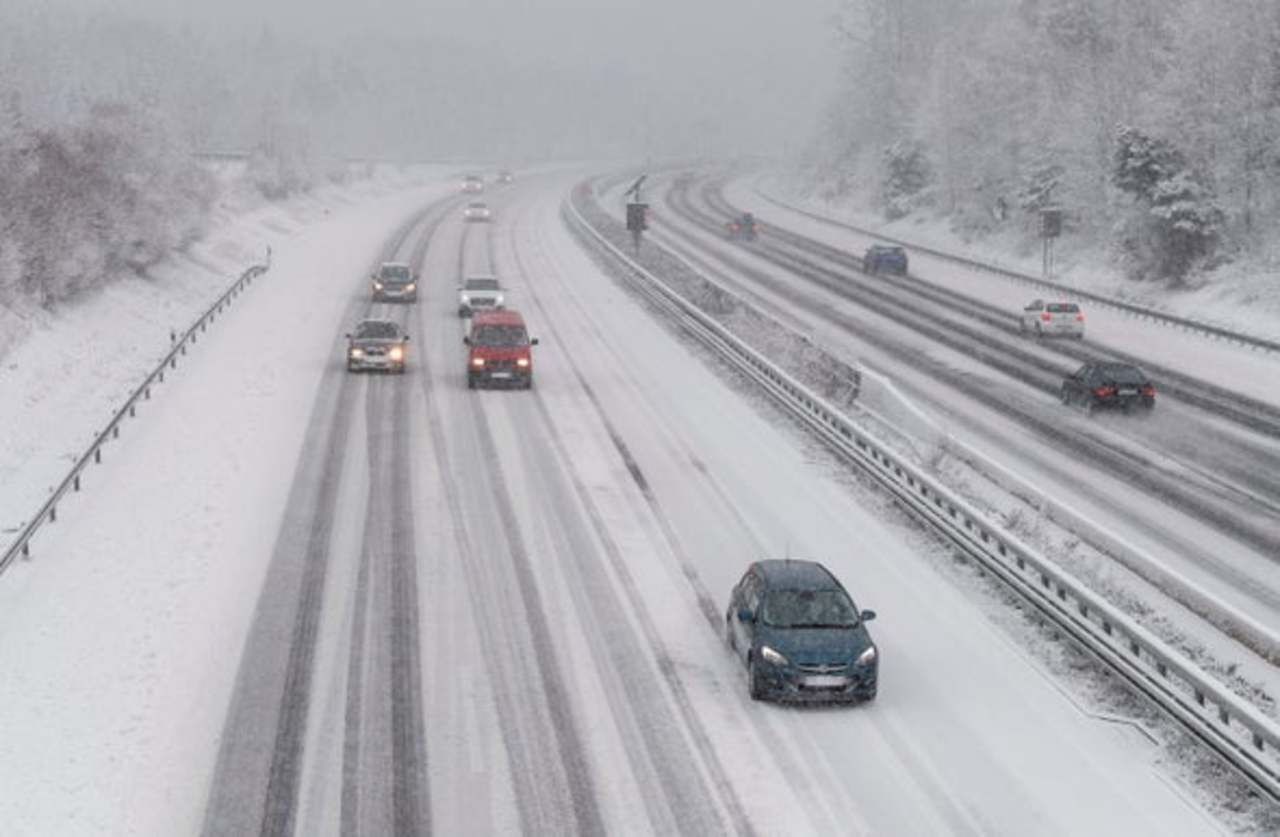car: (728, 558, 883, 709), (462, 312, 536, 391), (1059, 360, 1156, 415), (345, 319, 409, 375), (1020, 296, 1084, 343), (372, 261, 418, 302), (457, 276, 509, 312), (861, 242, 908, 277), (720, 211, 758, 240), (464, 201, 491, 220), (493, 168, 515, 186), (460, 175, 482, 192)
